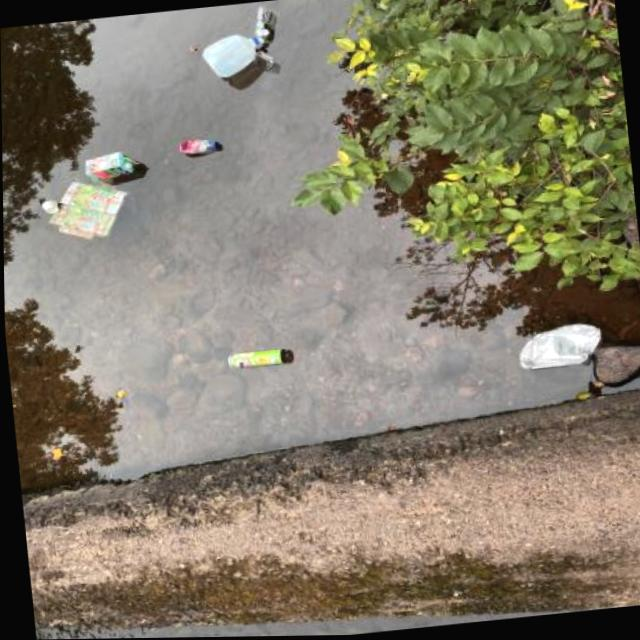Can-Metal: (503, 313, 609, 384), (221, 344, 295, 372)
Cardboard: (31, 169, 136, 249), (79, 145, 144, 195)
Plastic: (193, 32, 270, 85), (247, 0, 282, 53), (169, 132, 225, 162)
